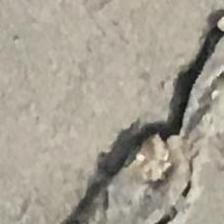Crack: (45, 15, 224, 224)
